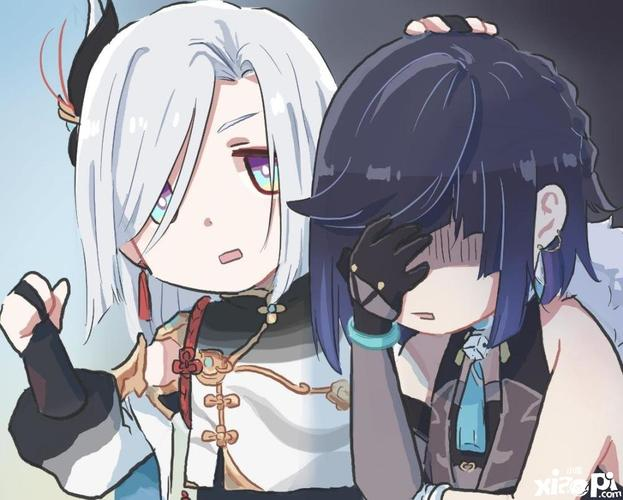夜兰: (316, 26, 623, 499)
